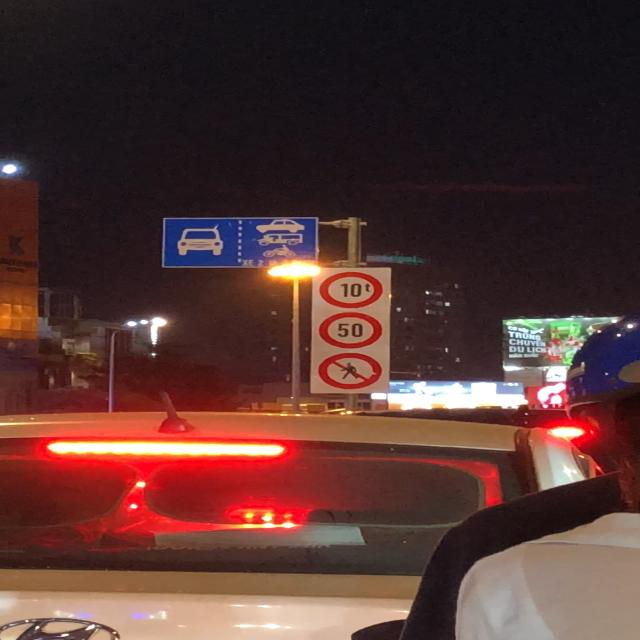Bien bao cam nguoi di bo: (318, 350, 382, 390)
Bien bao toc do toi da cho phep: (319, 310, 382, 350)
